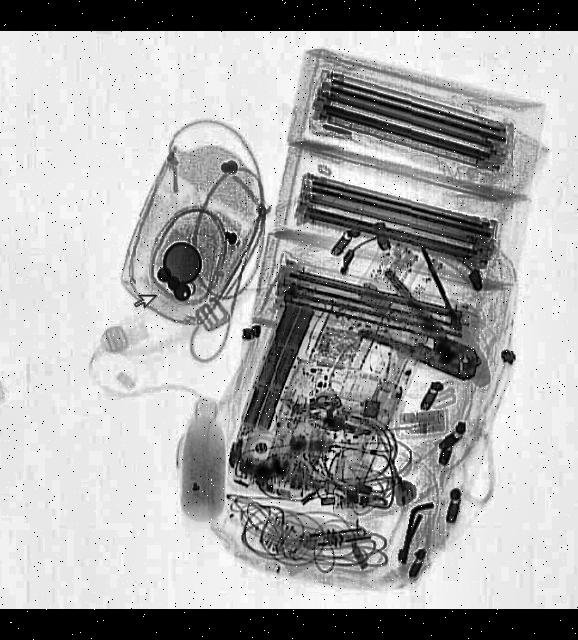Pliers: (347, 265, 499, 401)
